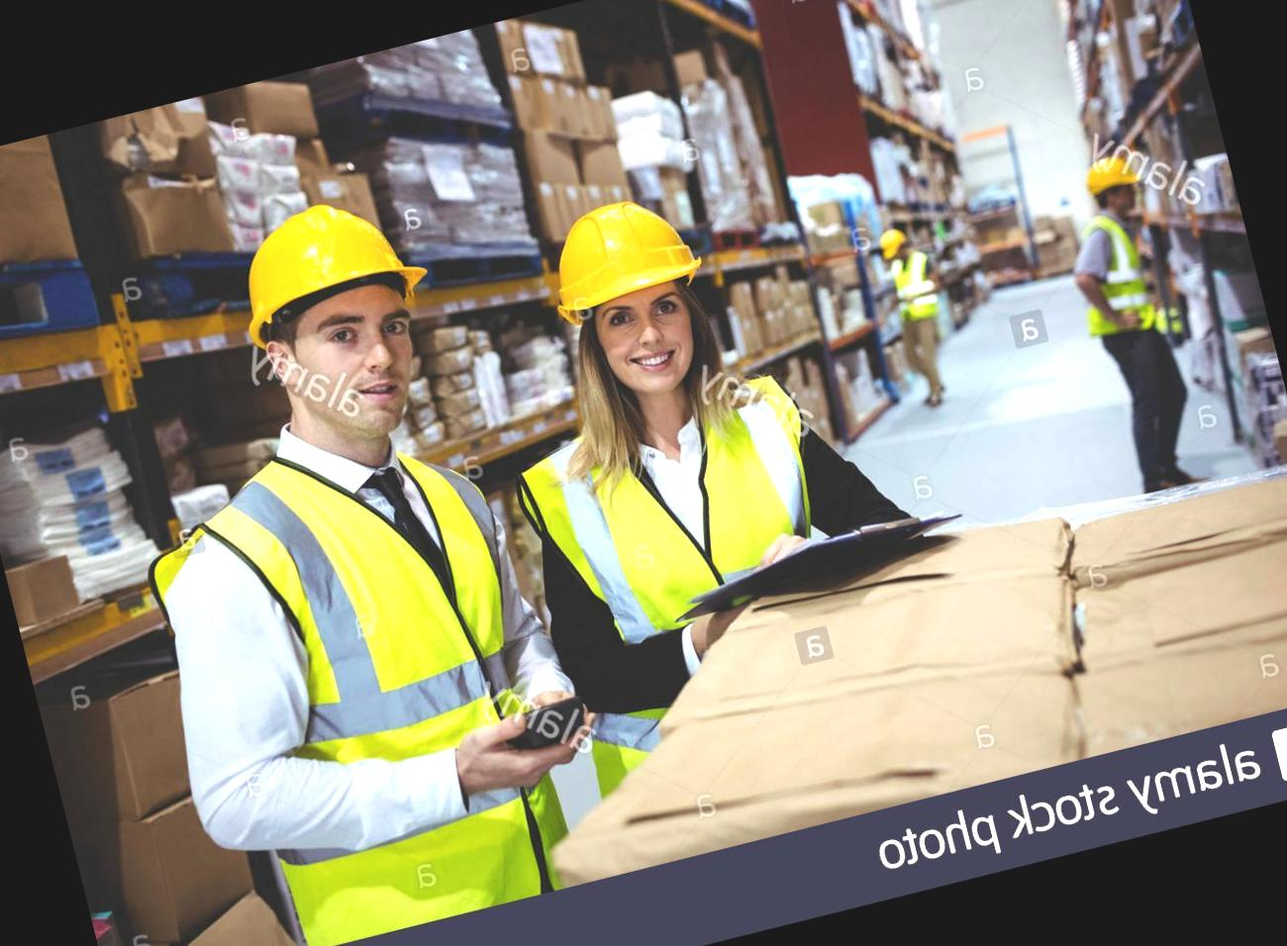helmet: (207, 182, 442, 373), (520, 177, 721, 332), (1072, 144, 1156, 210), (864, 212, 926, 272)
person: (48, 169, 588, 946), (442, 154, 887, 756), (1024, 130, 1238, 514), (848, 217, 974, 424)
